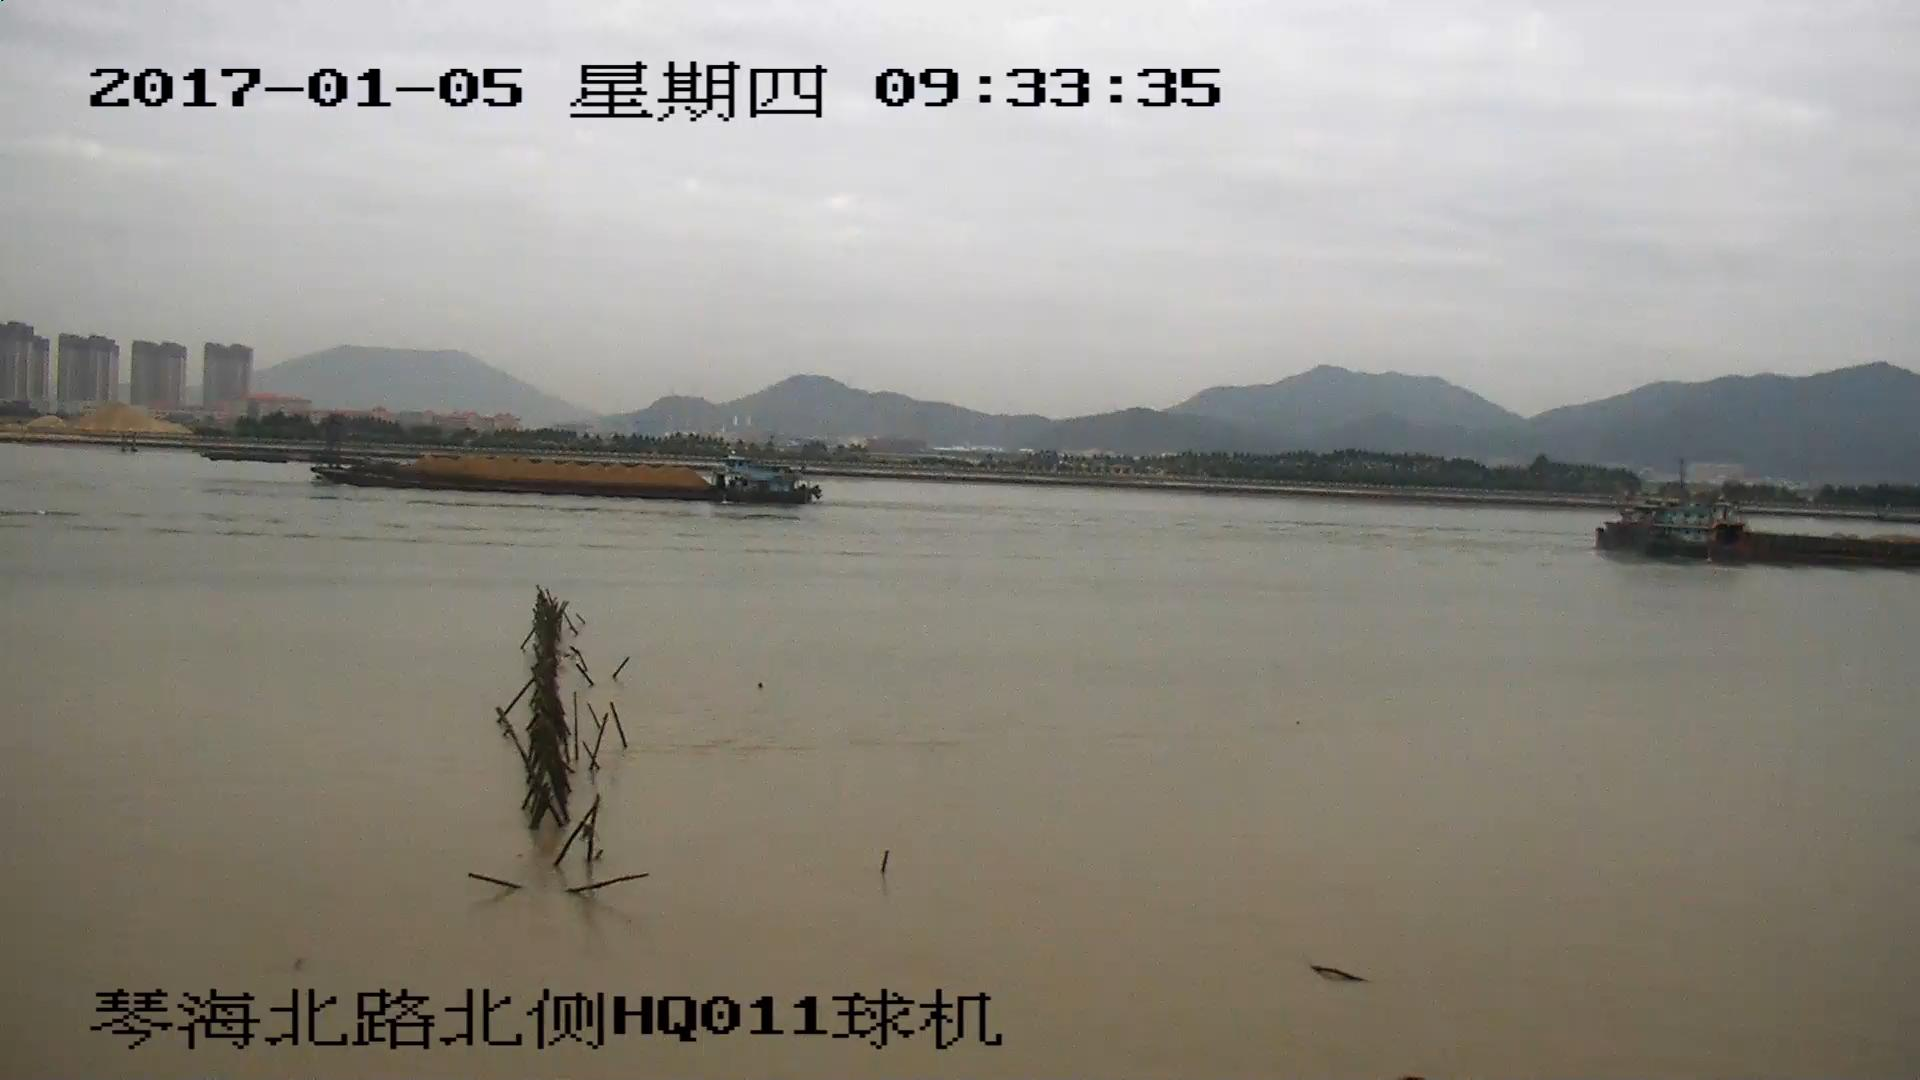ore carrier: (206, 420, 814, 506), (1594, 496, 1920, 564)
